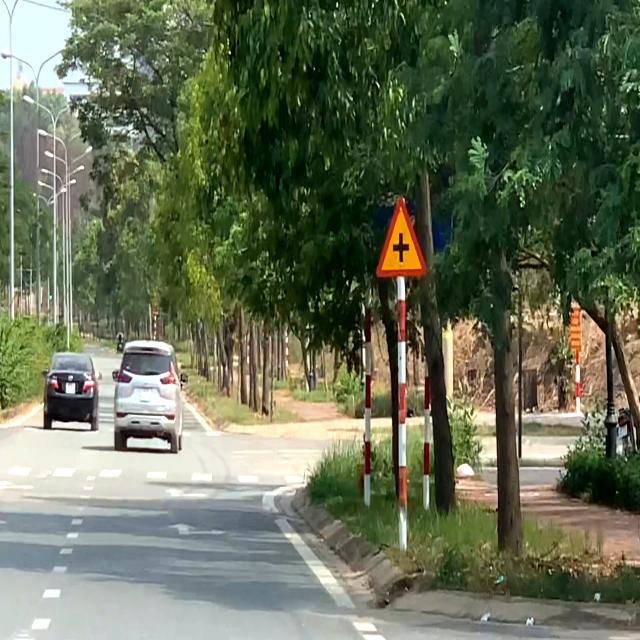W.205a: (376, 194, 428, 278)
